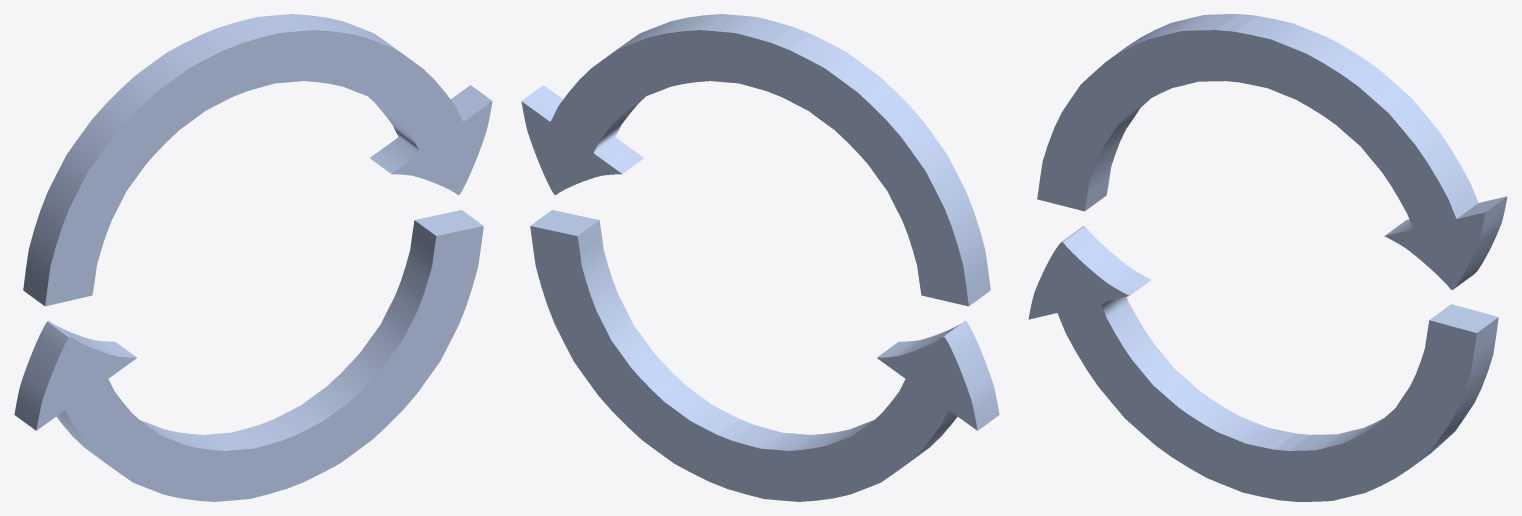
Rendered from btn2.glb.
The picture shows the model from 3 angles, left to right: view 1: azimuth 30°, elevation 25°; view 2: azimuth 150°, elevation 25°; view 3: azimuth 330°, elevation 25°; orthographic projection.
Visible parts, largest first — view 1: Cube.006; view 2: Cube.006; view 3: Cube.006.
Part boxes in pixels (x1=…): Cube.006: x1=14, y1=14, x2=492, y2=501; Cube.006: x1=521, y1=14, x2=999, y2=501; Cube.006: x1=1028, y1=14, x2=1507, y2=501.
Bounding box in the file's own units: 0.7284 × 0.7003 × 0.0607.
